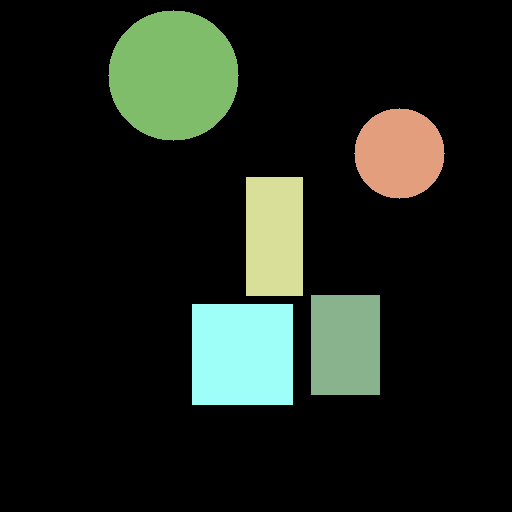circle: (108, 10, 238, 140), (354, 108, 444, 198)
rectangle: (311, 295, 379, 394), (246, 177, 302, 295)
square: (192, 304, 292, 404)
